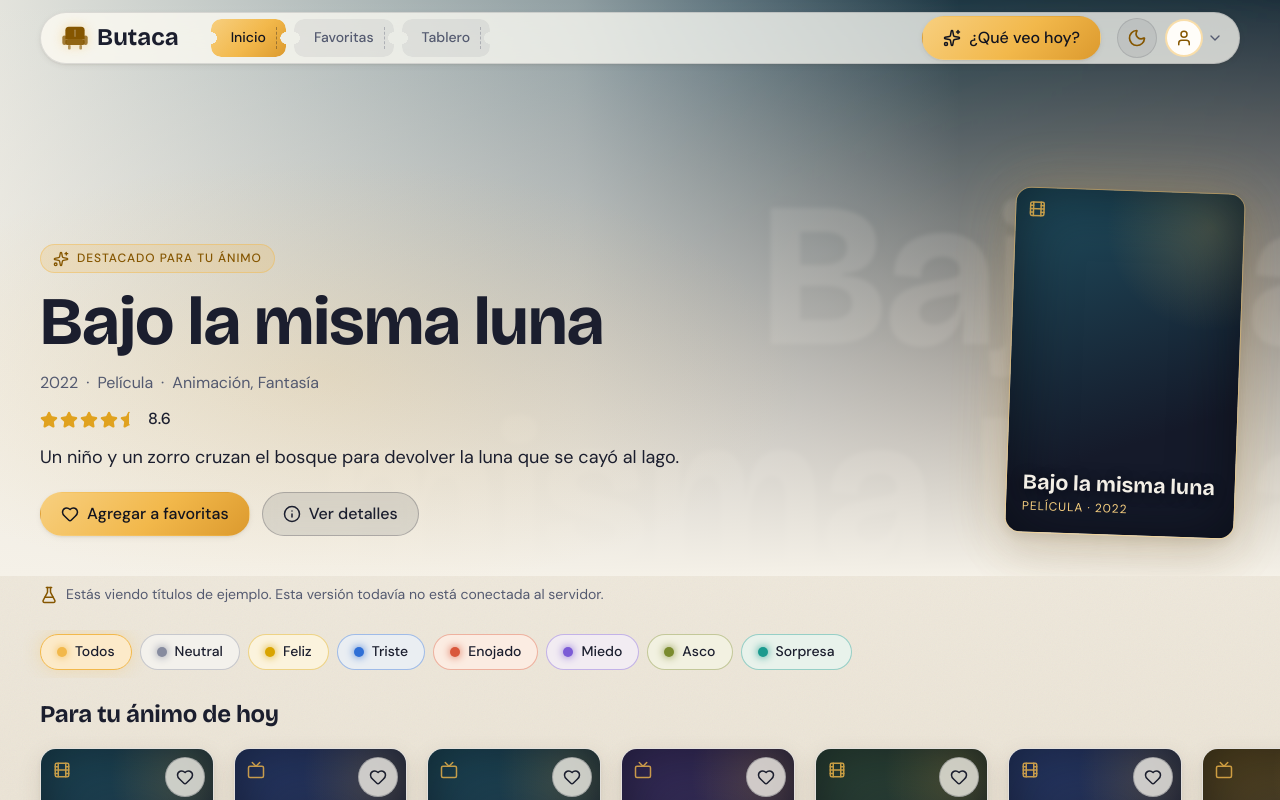
Test: favoritas › lo que se marca en recomendaciones aparece en favoritas y se puede quitar
Click the button "Agregar a favoritas": (145, 514) [40, 492, 250, 536]
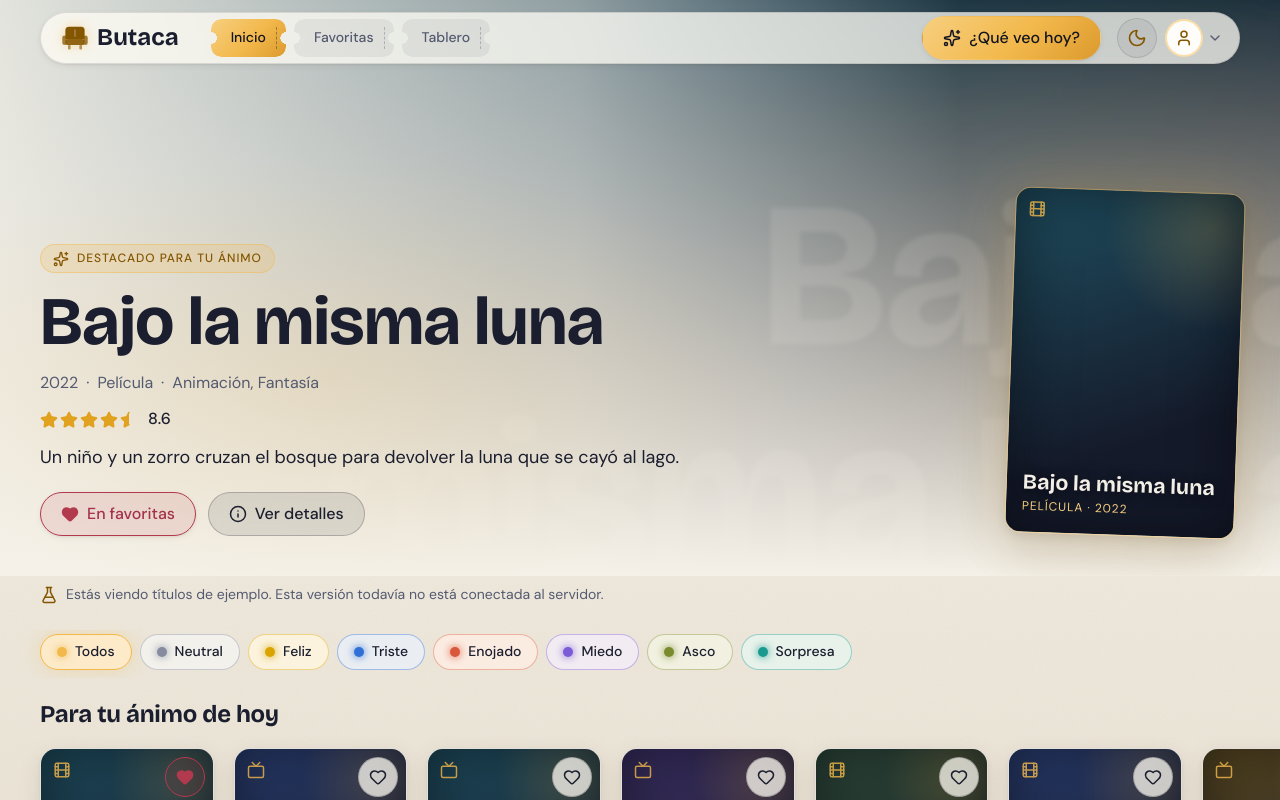
Click the link "Favoritas": (344, 38) [294, 19, 394, 57]
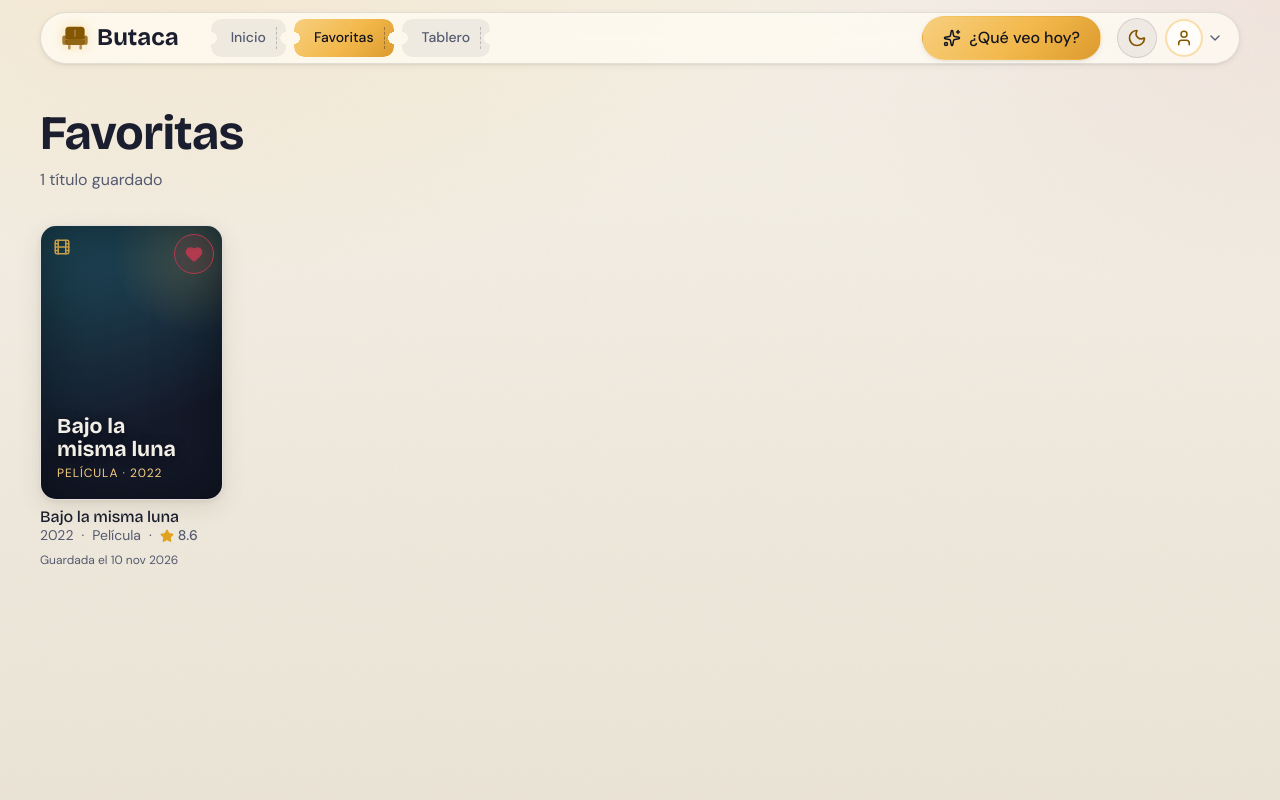
Expected: the heading "Bajo la misma luna" is shown, [40, 507, 179, 526]
Expected: the text "Guardada el 10 nov 2026" is shown, [40, 552, 178, 568]
Click the button named "Quitar Bajo la misma luna de favoritas": (194, 254) [174, 234, 214, 274]
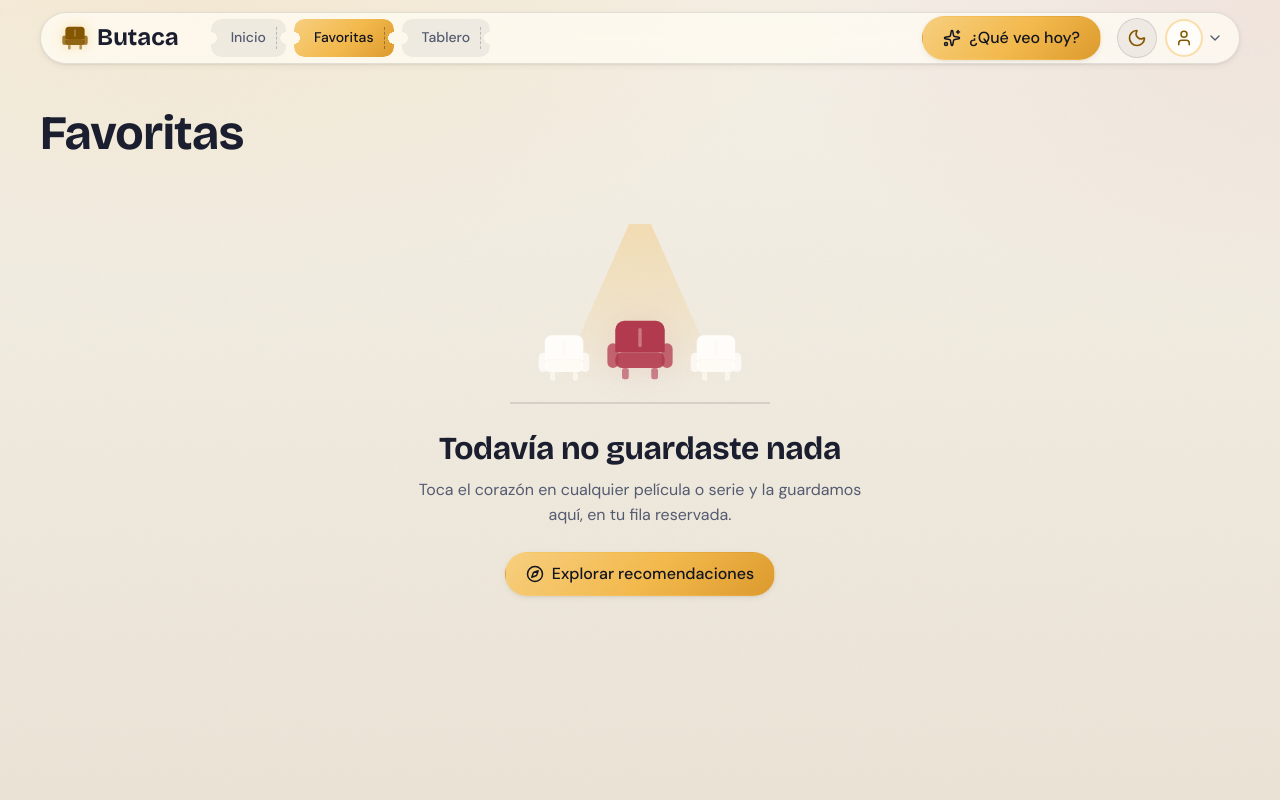
Expected: the heading "Todavía no guardaste nada" is shown, [439, 432, 841, 466]
